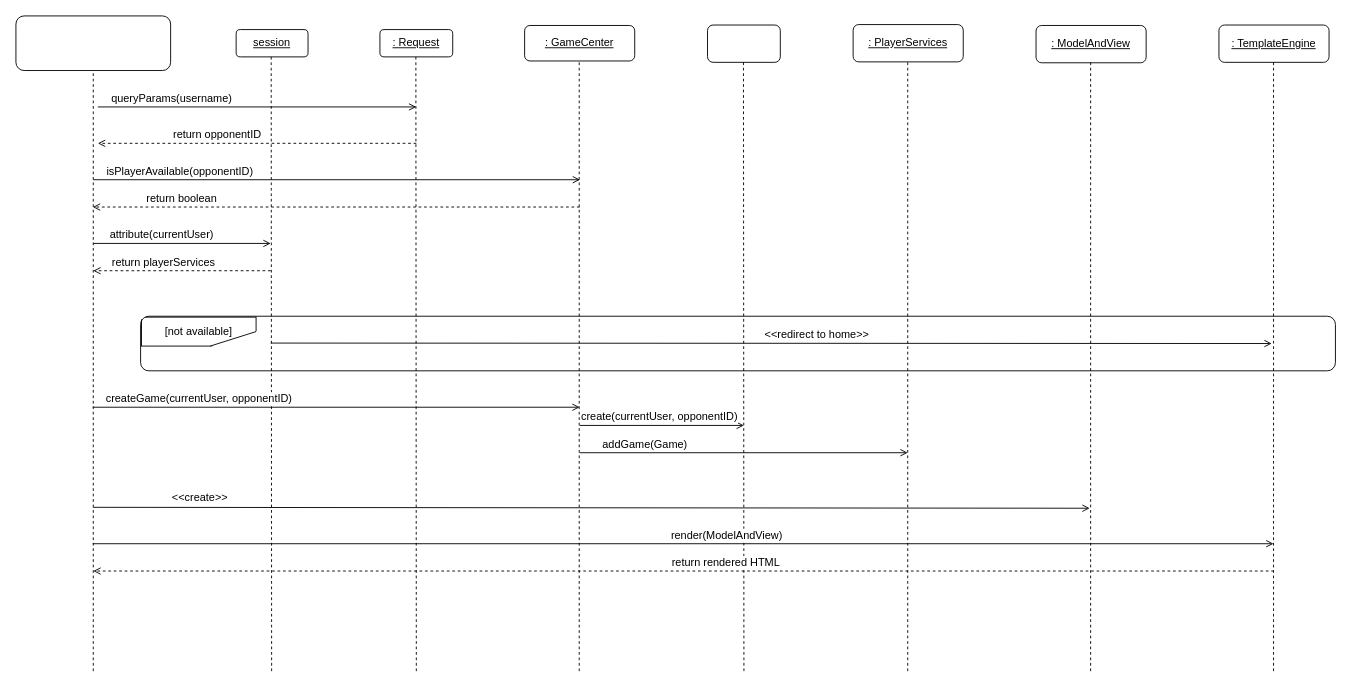
Some shapes in this 1351 by 688 pixel diagram are drawn without their labels. The shapes that lost their labels are listed below. From the top down, each one's centre as x and y in pixels, then its label:
At (93,43): "<<implementation class>> : PostGameRoute".
At (743,43): ": Game".
